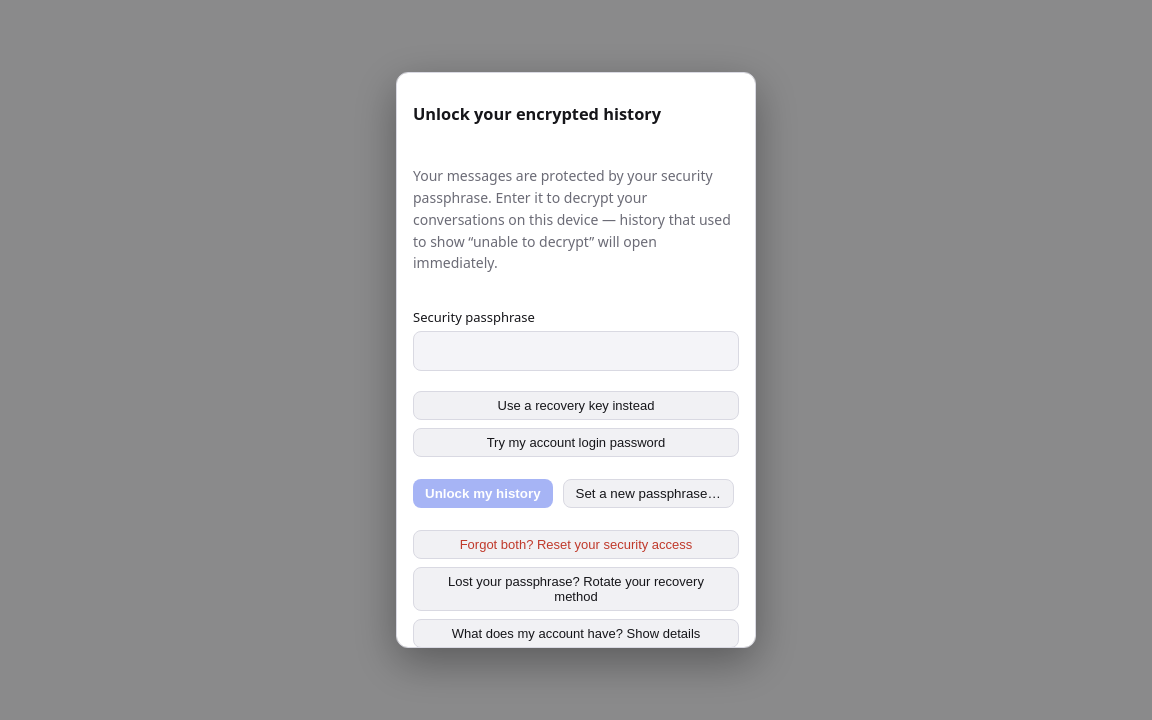
Test case: W23-B destructive reset behind an honest confirmation › wrong account password surfaces VERBATIM — no reset-copy wrapper eats the server message
Check: the heading "Unlock your encrypted history" is shown, box [413,103,661,125]
Click the button with test id "reset-entry" at (576, 545), box [413,530,739,559]
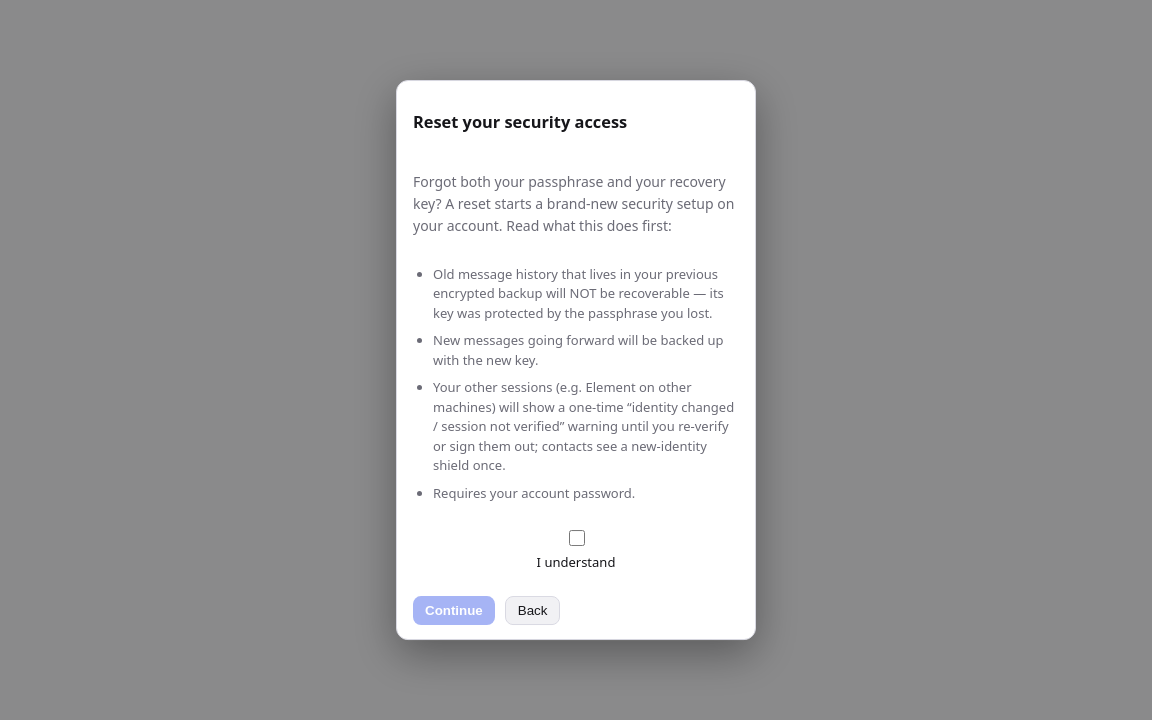
Check: the element with test id "reset-confirm" is shown, box [413,95,739,625]
Click the checkbox with test id "reset-understand" at (576, 538), box [568,530,584,546]
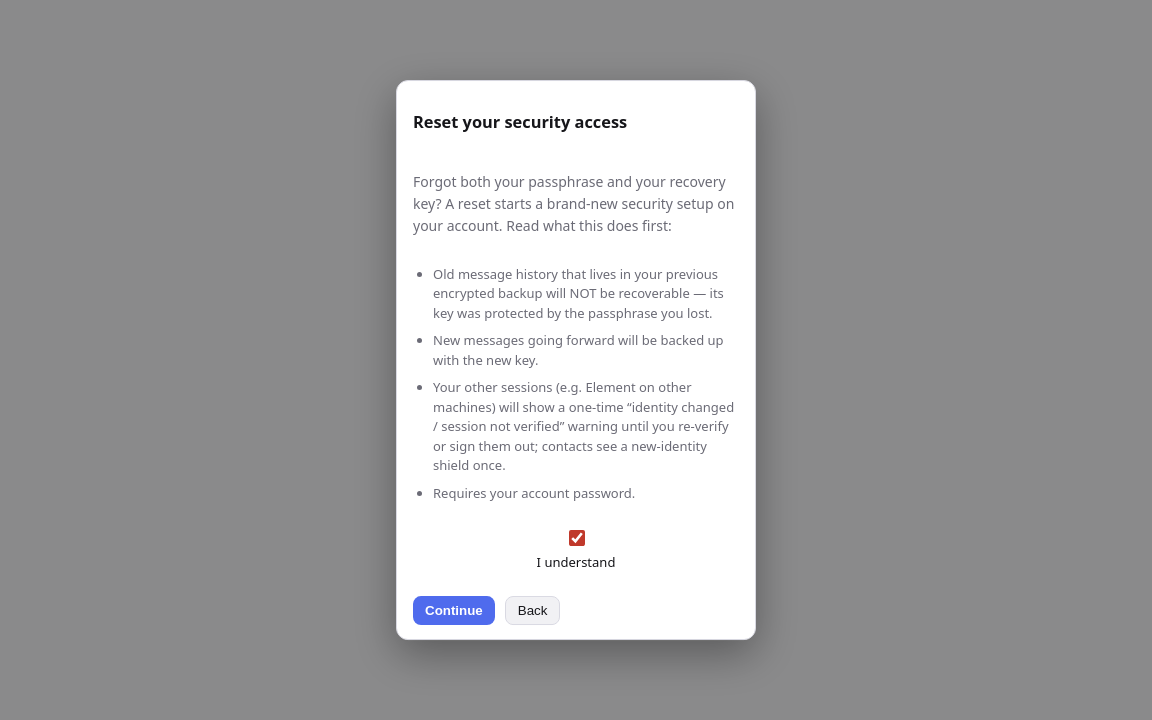
Click the button with test id "reset-continue" at (454, 610), box [413,596,495,625]
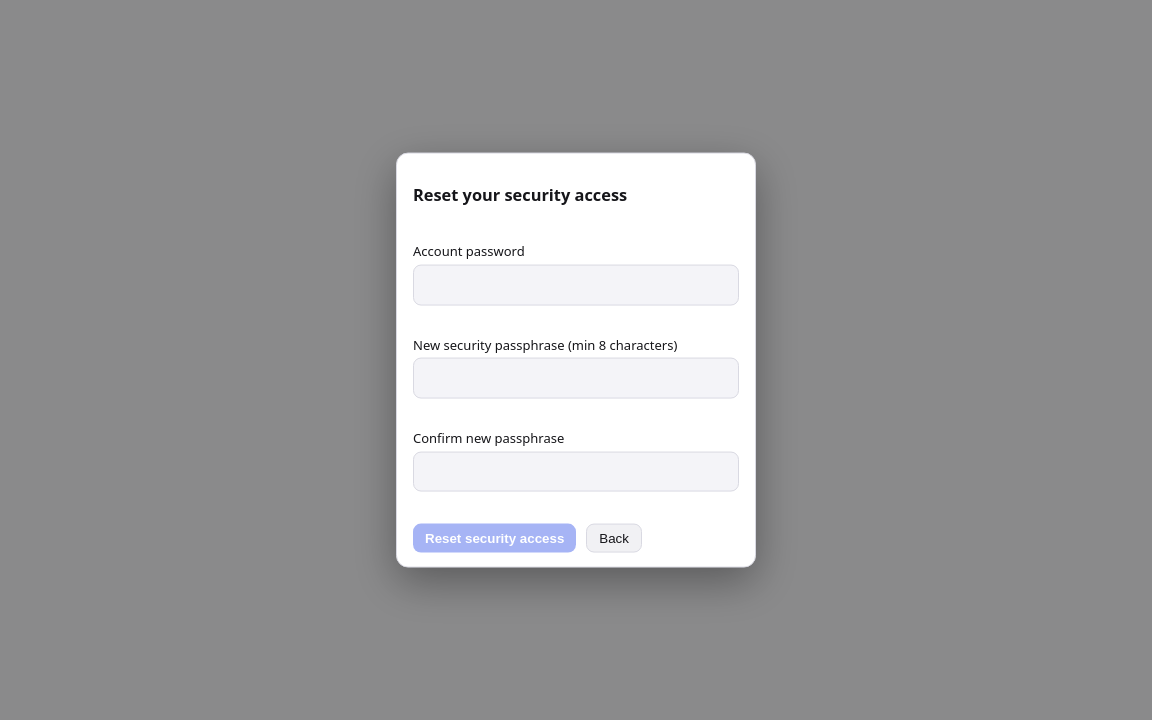
Check: the element with test id "reset-form" is shown, box [413,168,739,552]
Type "nope" into the password field with test id "reset-password" at (576, 285), box [413,265,739,305]
Type "brand new phrase" into the password field with test id "reset-pass1" at (576, 378), box [413,358,739,398]
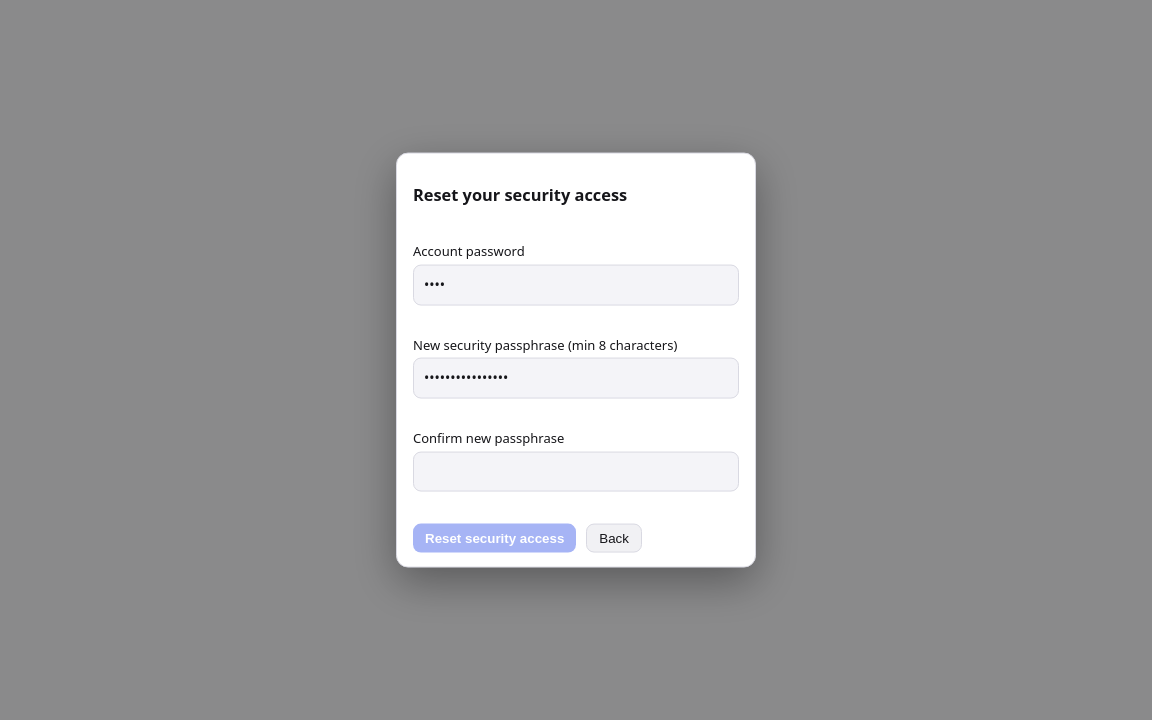
Type "brand new phrase" into the password field with test id "reset-pass2" at (576, 471), box [413,451,739,492]
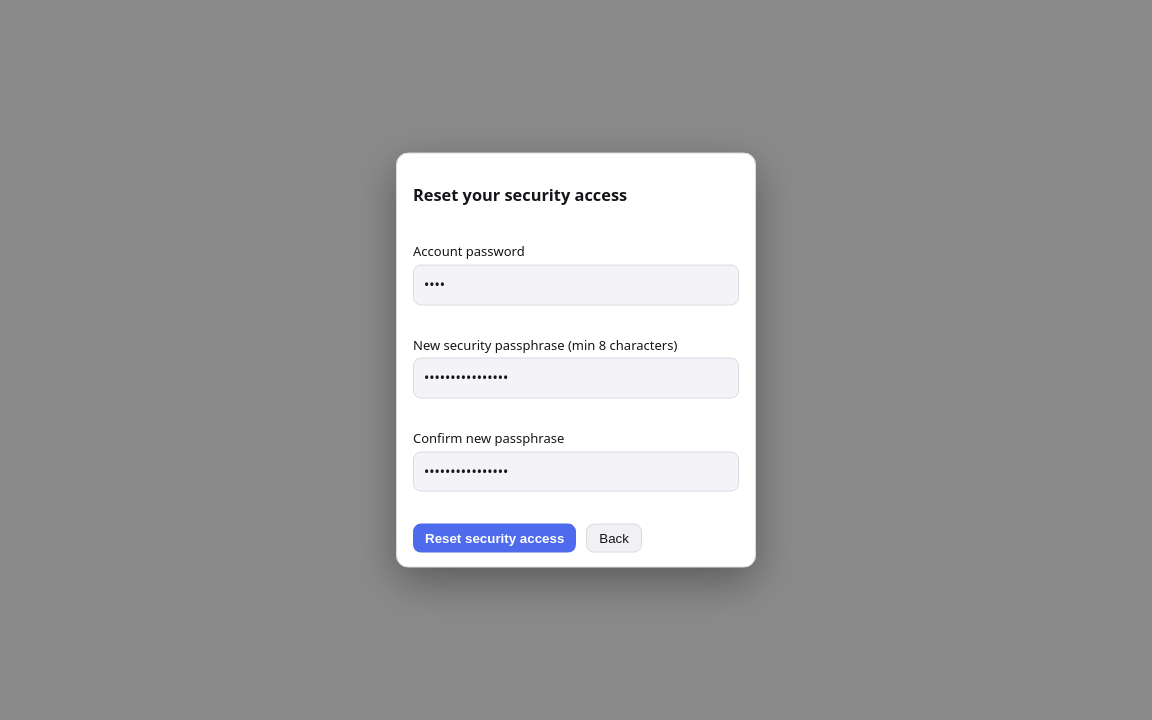
Click the button with test id "reset-go" at (495, 538), box [413,524,576,552]
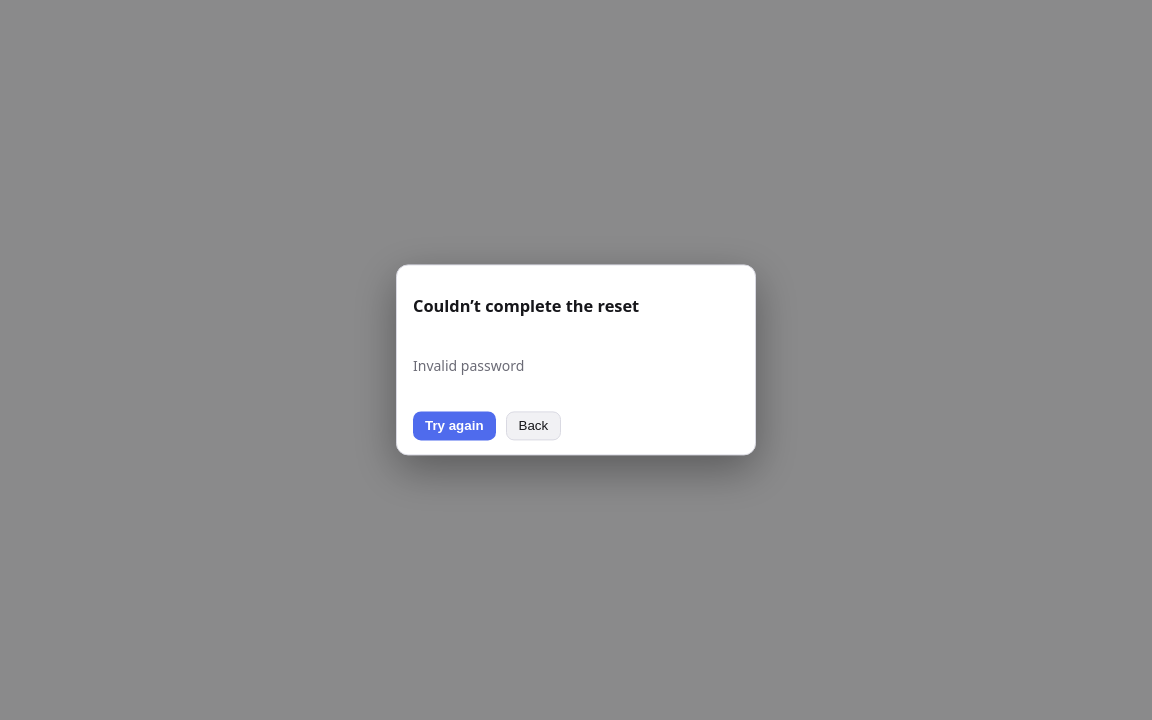
Check: the element with test id "reset-error" is shown, box [413,296,639,441]
Check: the message with test id "reset-error-message" reads "Invalid password", box [413,357,524,376]
